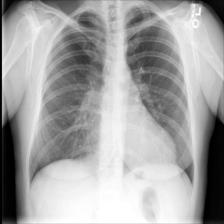normal: (25, 6, 199, 196)
